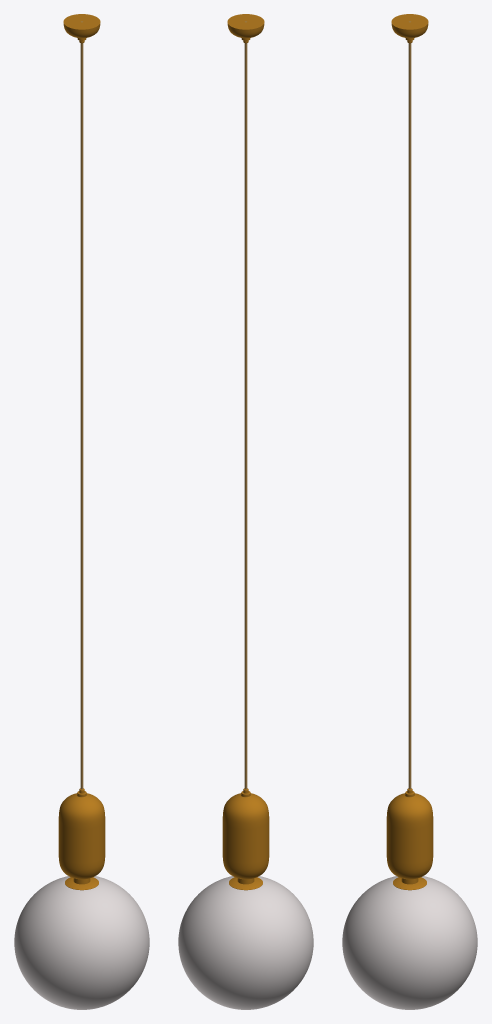
Rendered from Parachilna_Aballs_T_GR_mat(2).fbx.
3 renders of one model, left to right at view 1: azimuth 90°, elevation 25°; view 2: azimuth 210°, elevation 25°; view 3: azimuth 270°, elevation 25°, orthographic.
Visible parts, largest first — view 1: Parachilna_Aballs_T_GR_mat2; view 2: Parachilna_Aballs_T_GR_mat2; view 3: Parachilna_Aballs_T_GR_mat2.
Part boxes in pixels (left/top/right/bottom): Parachilna_Aballs_T_GR_mat2: left=14, top=14, right=149, bottom=1009; Parachilna_Aballs_T_GR_mat2: left=178, top=14, right=313, bottom=1009; Parachilna_Aballs_T_GR_mat2: left=342, top=14, right=477, bottom=1009.
Size of the model in its own units: 40 by 40 by 320.
